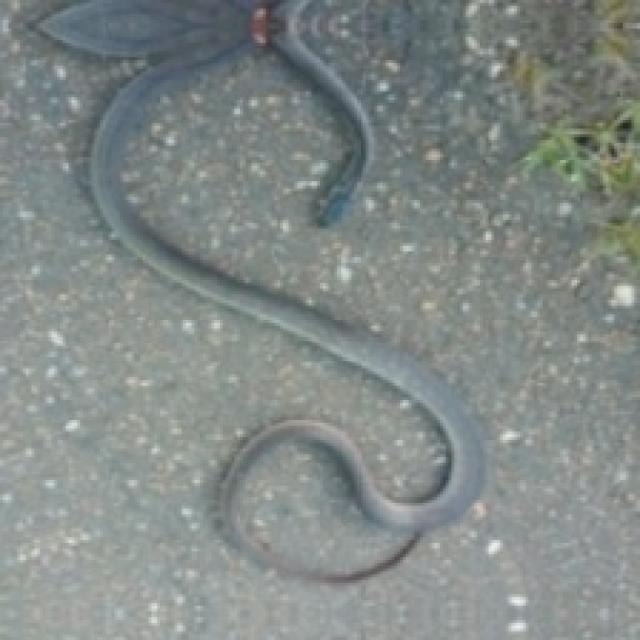reddish rat snake: (37, 0, 483, 577)
